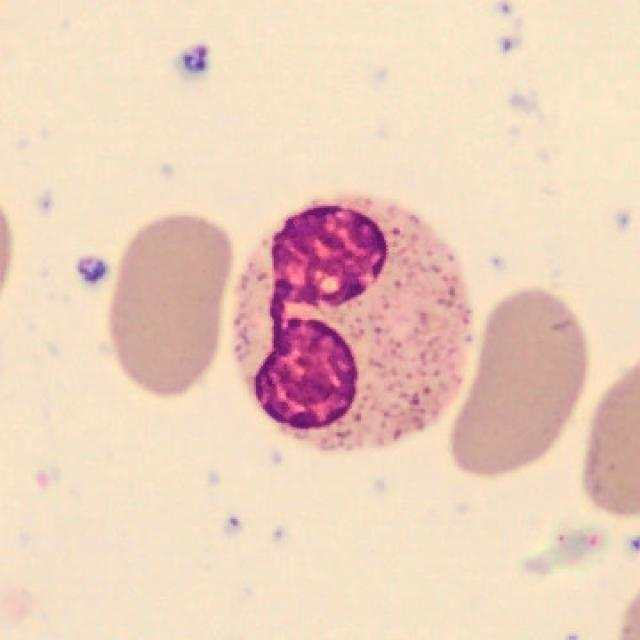Neutrofilo segmentado: (235, 197, 469, 446)
